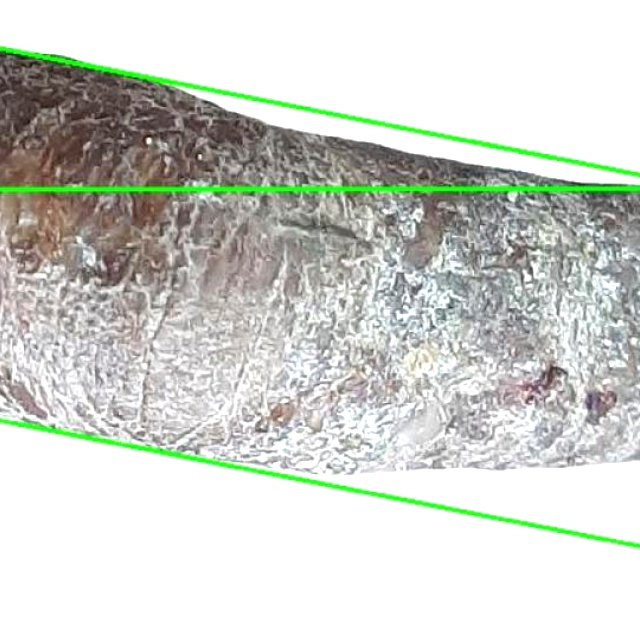Eczema: (0, 48, 639, 545), (0, 0, 639, 189)
